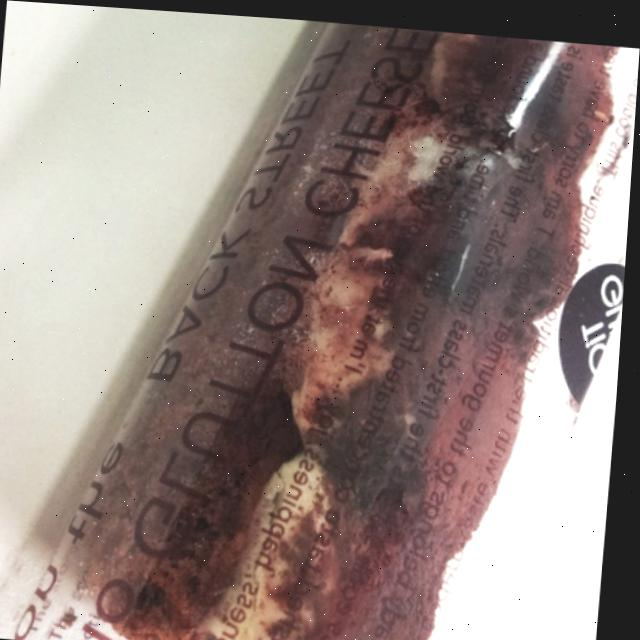蛋糕甜品: (0, 4, 636, 640)
